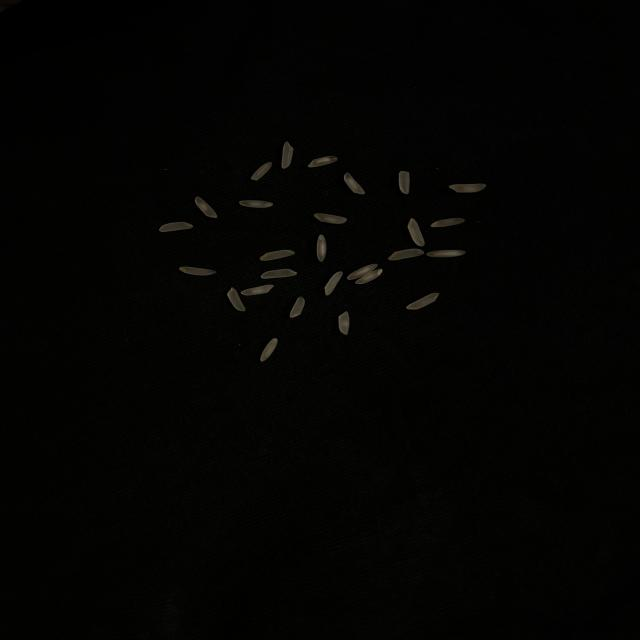Broken: (398, 170, 411, 194)
Full: (406, 292, 440, 310), (195, 196, 218, 218), (344, 172, 365, 195), (348, 264, 378, 280), (408, 218, 425, 246), (227, 287, 246, 311), (355, 268, 383, 284), (260, 338, 278, 362), (324, 272, 342, 296), (388, 248, 424, 260), (241, 284, 274, 296), (260, 250, 296, 261), (250, 162, 272, 180), (179, 266, 217, 276), (448, 183, 486, 193), (314, 213, 348, 224), (308, 156, 338, 168), (261, 269, 297, 279), (290, 296, 306, 318), (431, 218, 465, 228), (282, 141, 294, 169), (160, 222, 193, 232), (426, 250, 466, 258), (338, 311, 350, 335), (239, 200, 273, 208), (316, 235, 326, 262)
